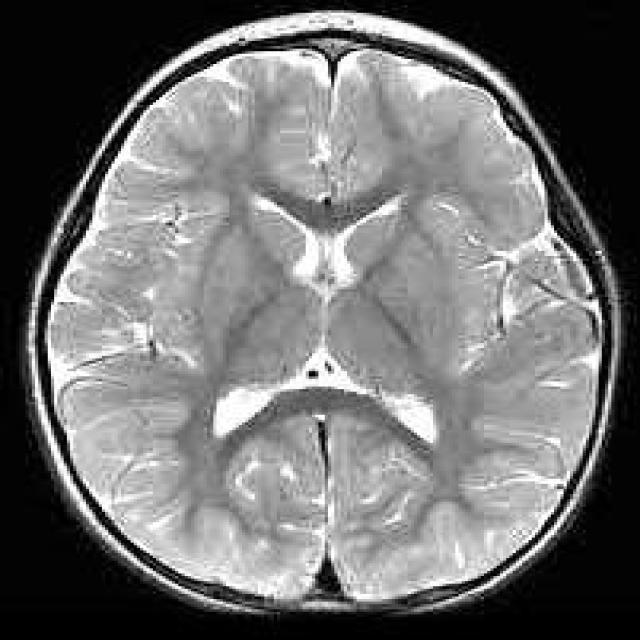notumor: (29, 13, 621, 617)
